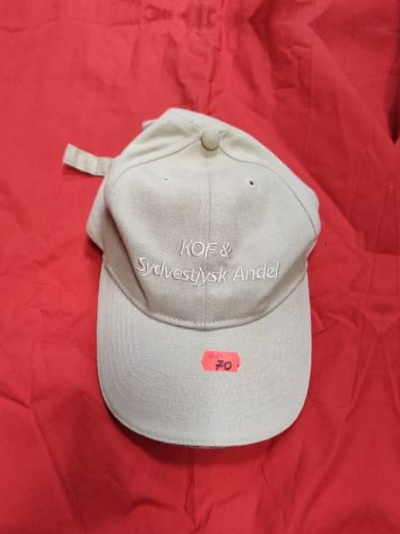Hat: (30, 94, 353, 468)
